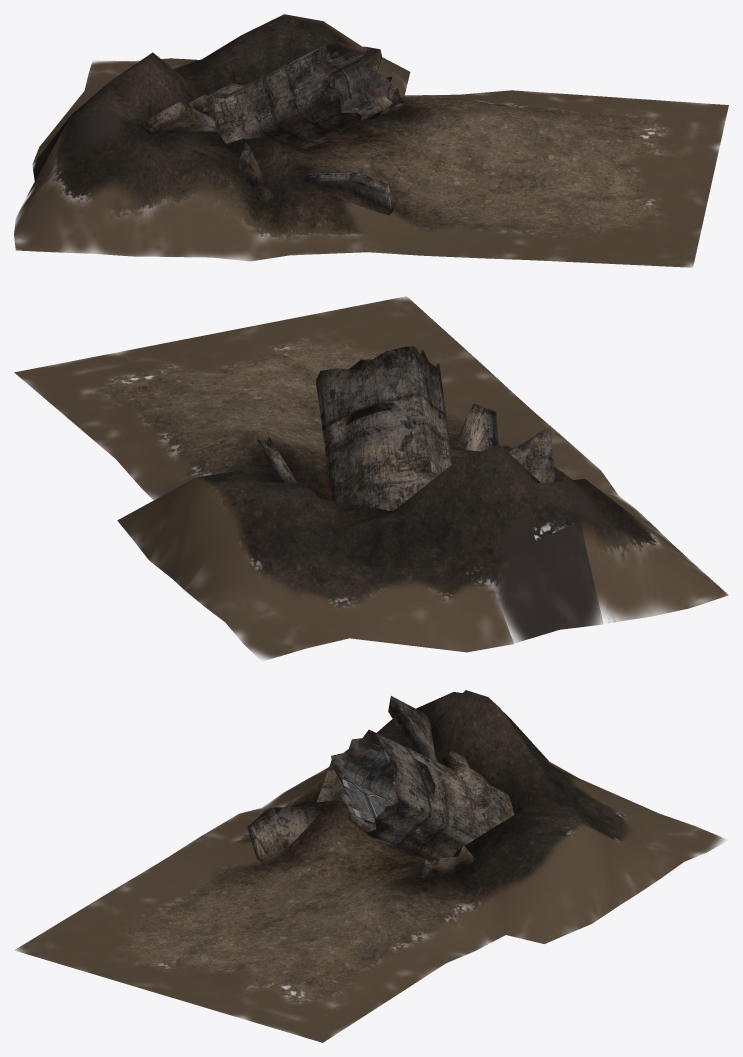
The model's file is spaceship.gltf.
3 renders of one model, top to bottom at view 1: azimuth 30°, elevation 25°; view 2: azimuth 150°, elevation 25°; view 3: azimuth 270°, elevation 25°, orthographic. The views are drawn at different scales.
Visible parts, largest first — view 1: Object_5, Object_2, Object_11, Object_6; view 2: Object_5, Object_2; view 3: Object_5, Object_2, Object_11, Object_6.
Part boxes in pixels (x1,y1,x2,y2): Object_5: [14, 14, 728, 267]; Object_2: [137, 42, 405, 215]; Object_11: [231, 51, 374, 124]; Object_6: [327, 51, 379, 111]; Object_5: [14, 296, 728, 659]; Object_2: [257, 346, 555, 511]; Object_5: [15, 690, 725, 1042]; Object_2: [247, 696, 514, 882]; Object_11: [342, 743, 423, 833]; Object_6: [342, 749, 395, 822].
Size of the model in its own units: 152 by 38.37 by 142.
6 materials, 6 textured.
